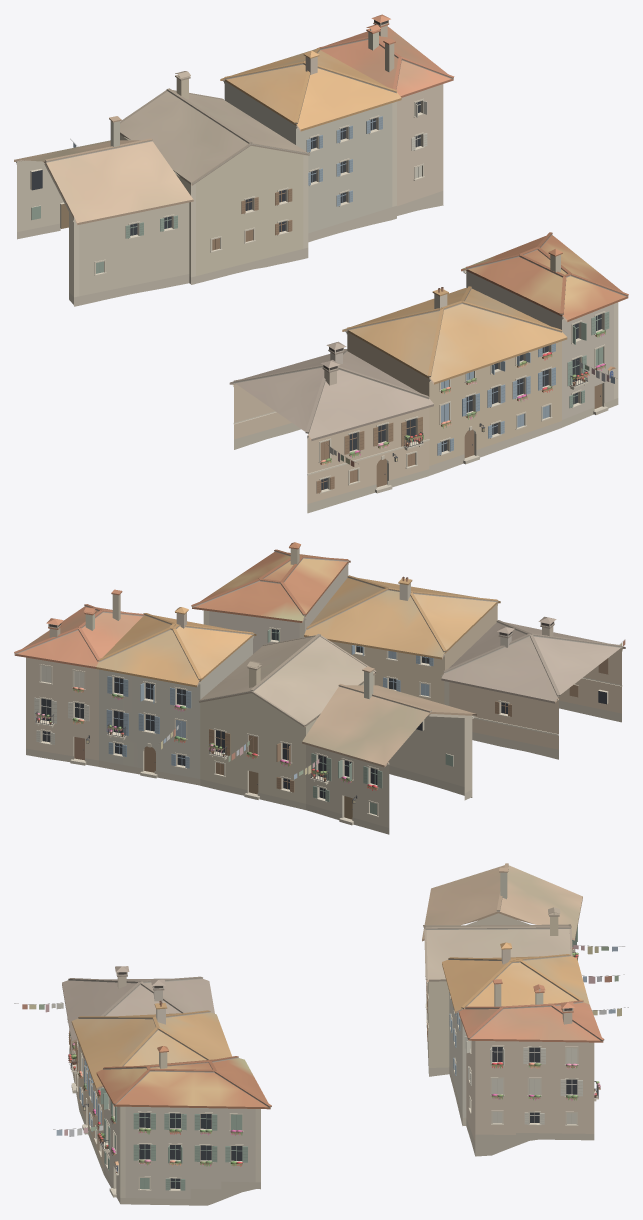
The model's file is SM_BM_BT_blk_29.glb.
3 views of the same model, one above another, from view 1: azimuth 30°, elevation 25°; view 2: azimuth 150°, elevation 25°; view 3: azimuth 270°, elevation 25° (orthographic). The views are drawn at different scales.
Parts seen in each view (by area): view 1: SM_BM_BT_blk_29; view 2: SM_BM_BT_blk_29; view 3: SM_BM_BT_blk_29.
Part boxes in pixels (x1,y1,x2,y2): SM_BM_BT_blk_29: (14,14,628,513); SM_BM_BT_blk_29: (14,542,625,834); SM_BM_BT_blk_29: (14,863,628,1205).
Size of the model in its own units: 40.32 by 22.49 by 56.67.
